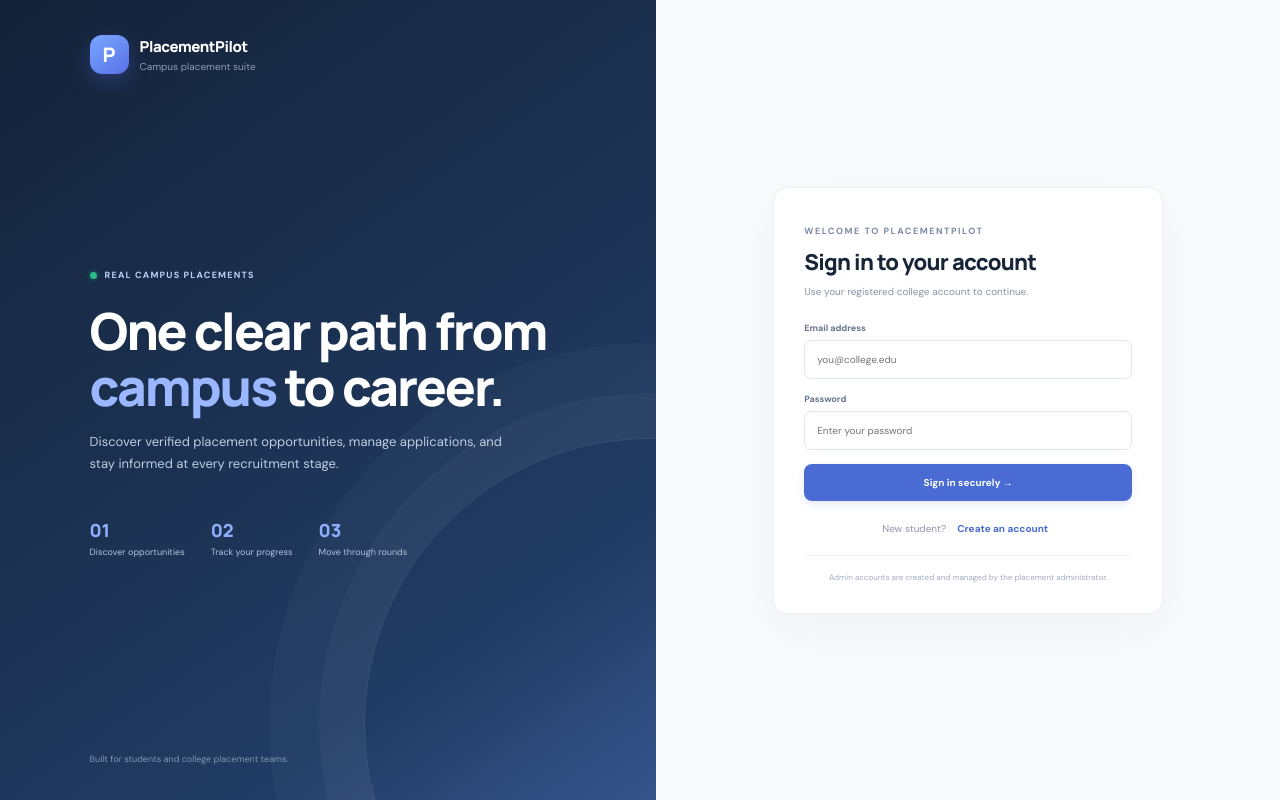
PlacementPilot application flows (API mocked) › shows only administrator navigation and loads student management
Type "admin@example.test" into the field labelled "Email address" at [968, 359], box [804,340,1132,378]
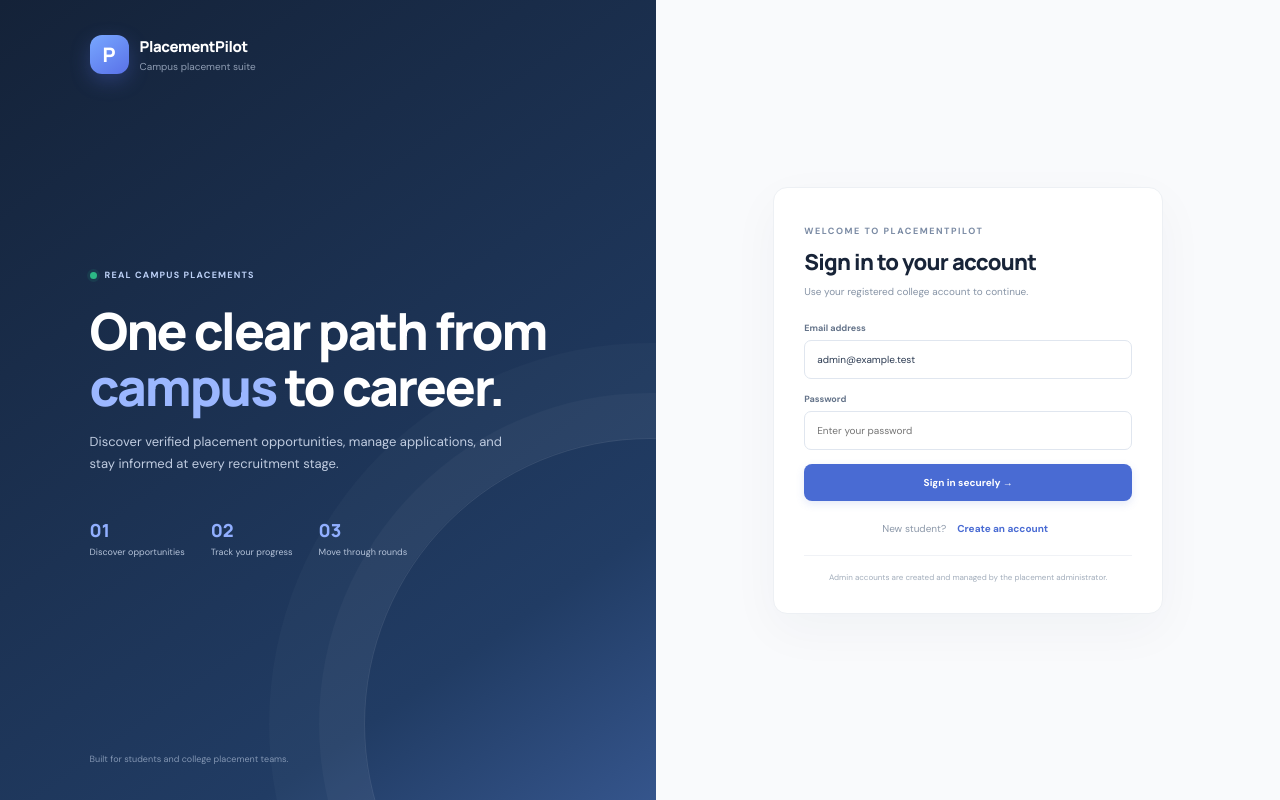
Type "SafeTestPassword123!" into the password field labelled "Password" at [968, 430], box [804,410,1132,450]
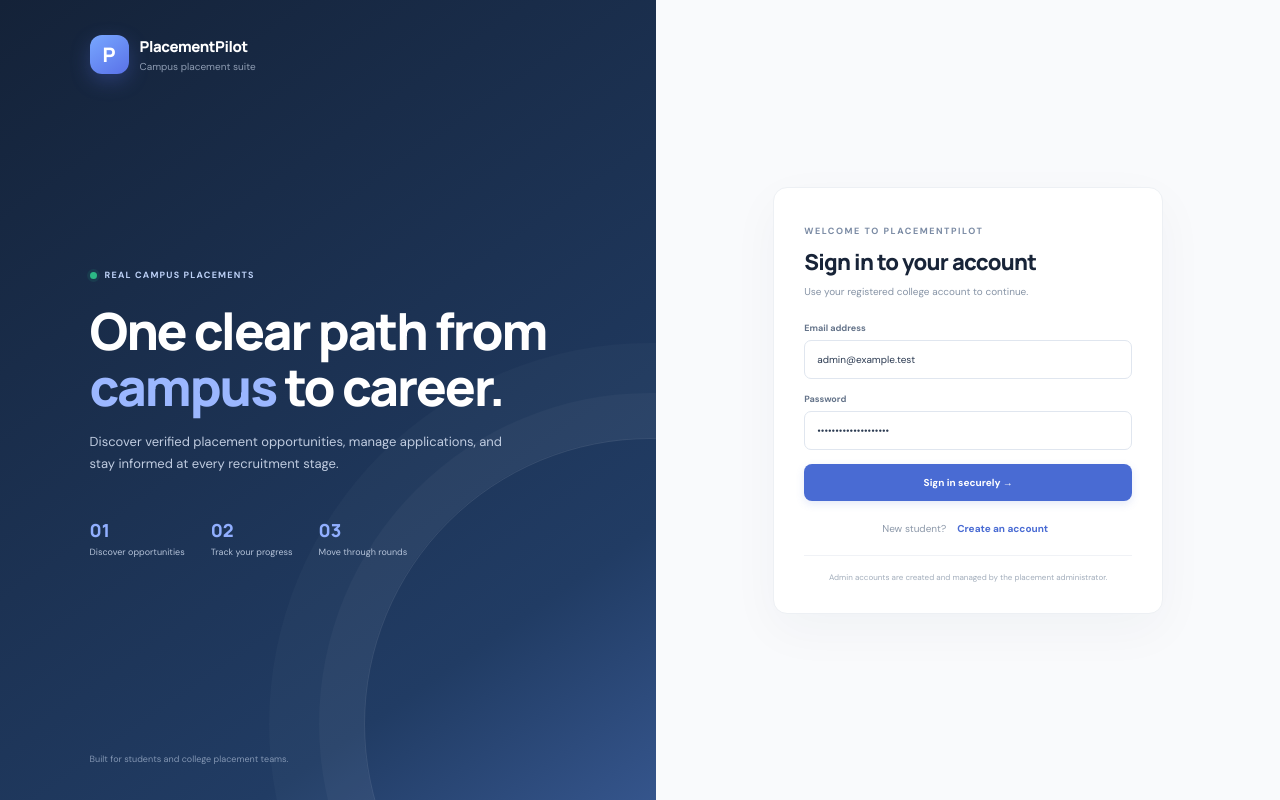
Click the button "Sign in securely →" at [968, 482], box [804,464,1132,500]
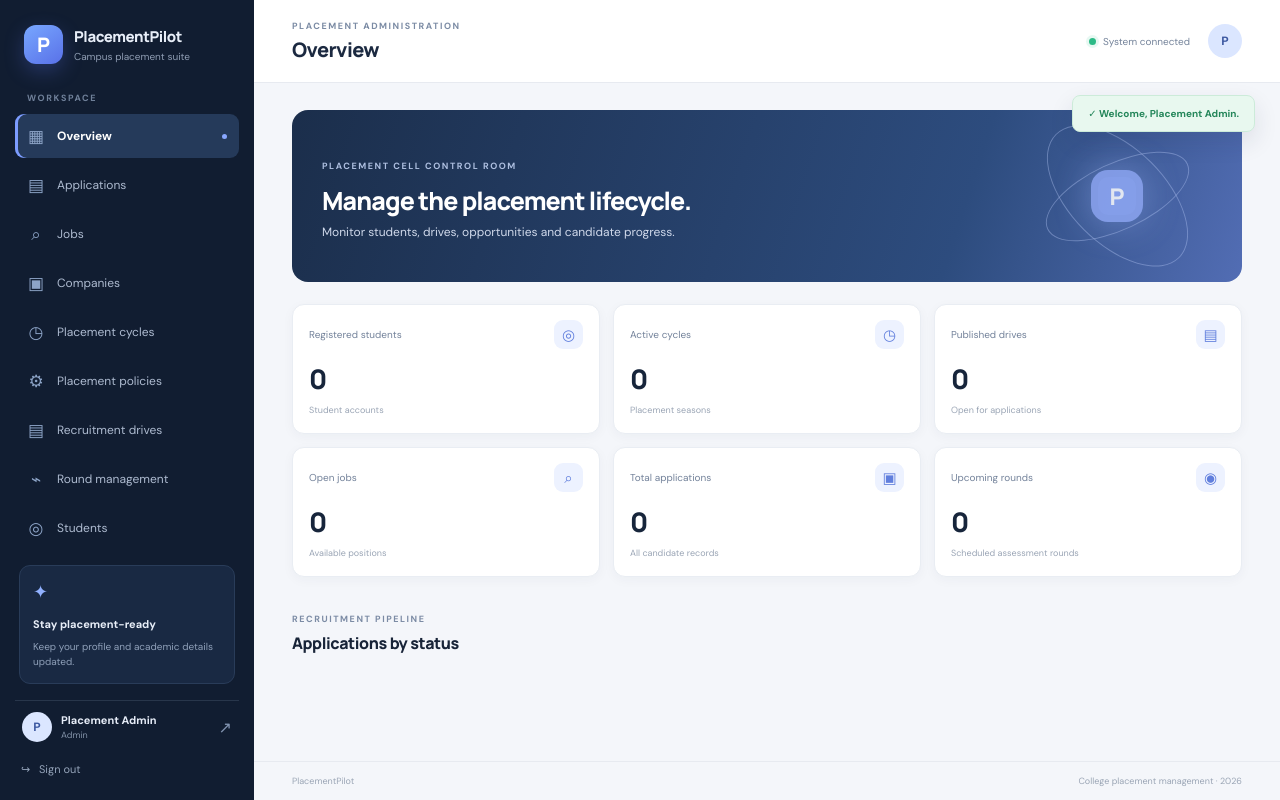
Expected: the heading "Manage the placement lifecycle." is shown, [322,182,691,218]
Expected: the button "◎ Students" is shown
Click the button "◎ Students" at [127, 528], box [15,506,239,550]
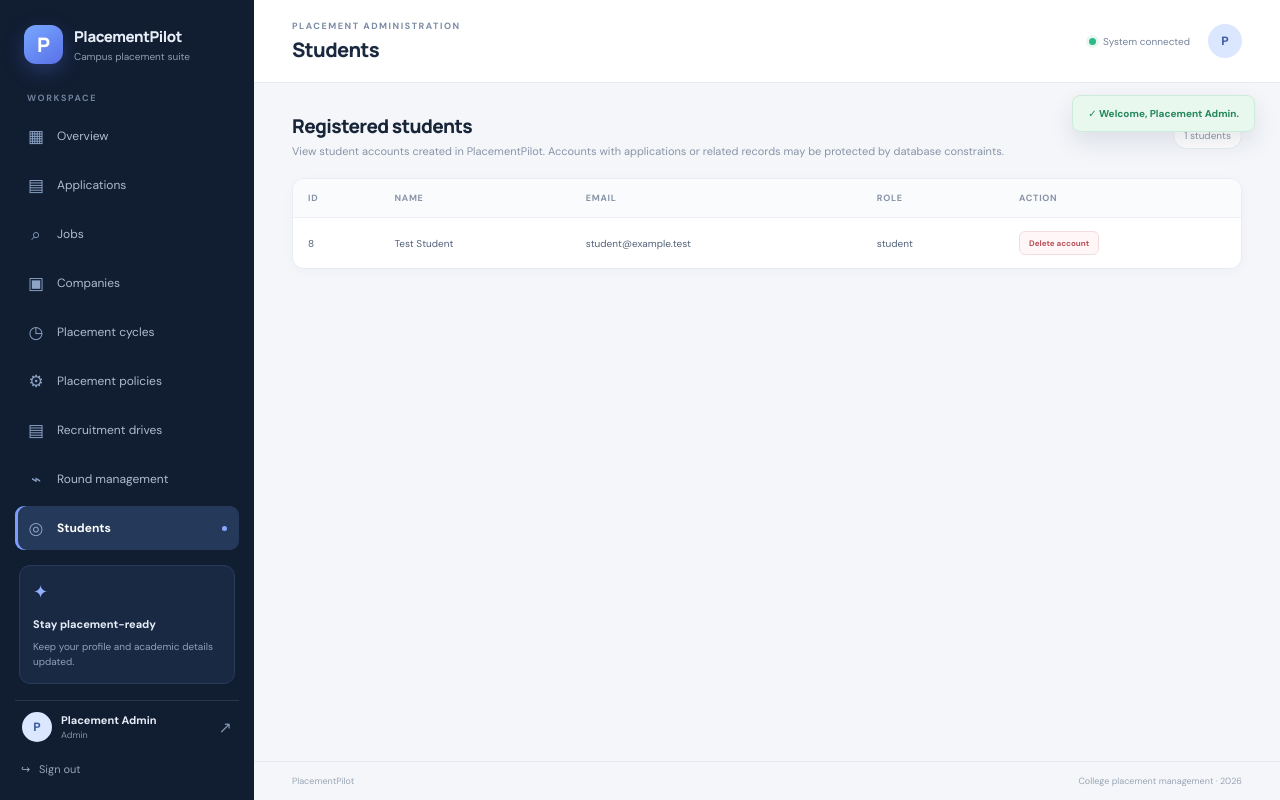
Expected: the text "student@example.test" is shown, [571,218,862,268]
Expected: the button "Delete account" is shown, [1019,231,1099,255]
